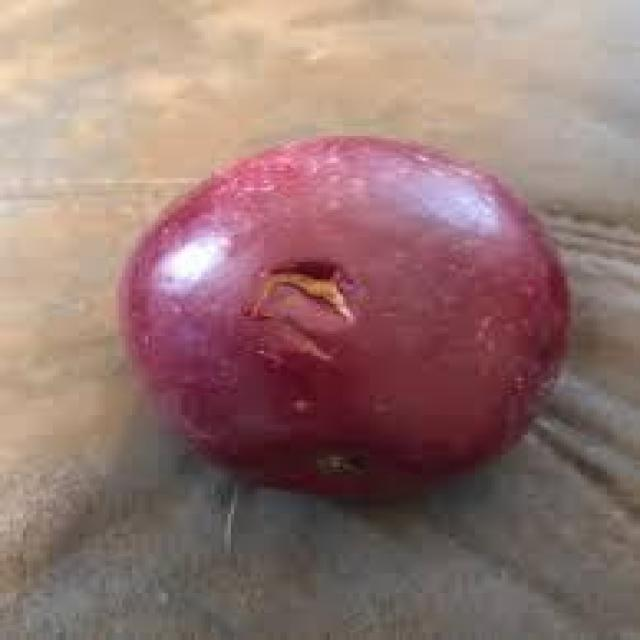maca: (115, 131, 574, 499)
